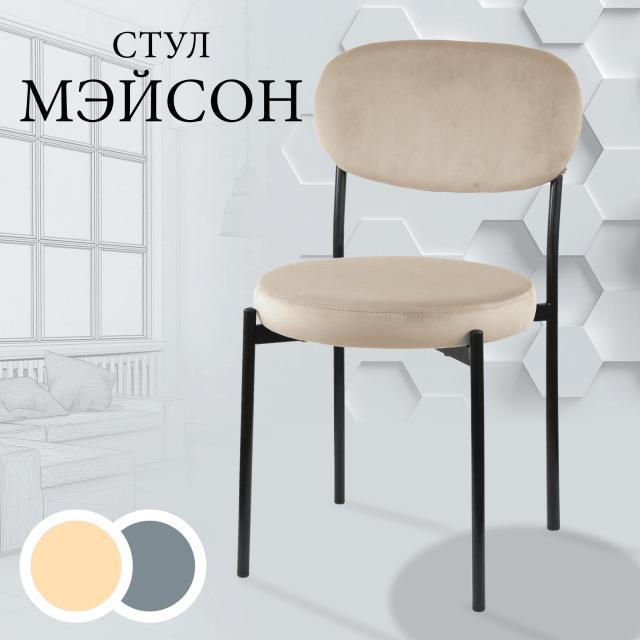chair: (230, 37, 584, 615), (202, 23, 567, 340)
